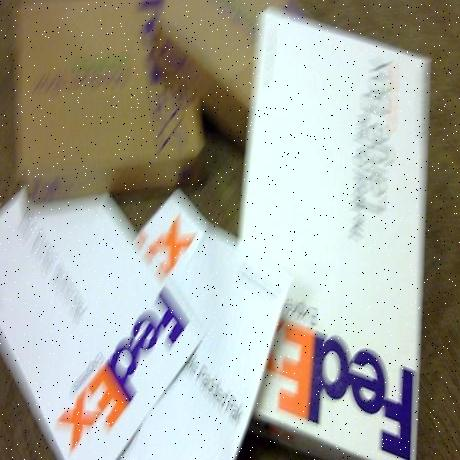Amazon: (243, 35, 437, 460), (0, 189, 180, 460), (0, 0, 212, 169)
